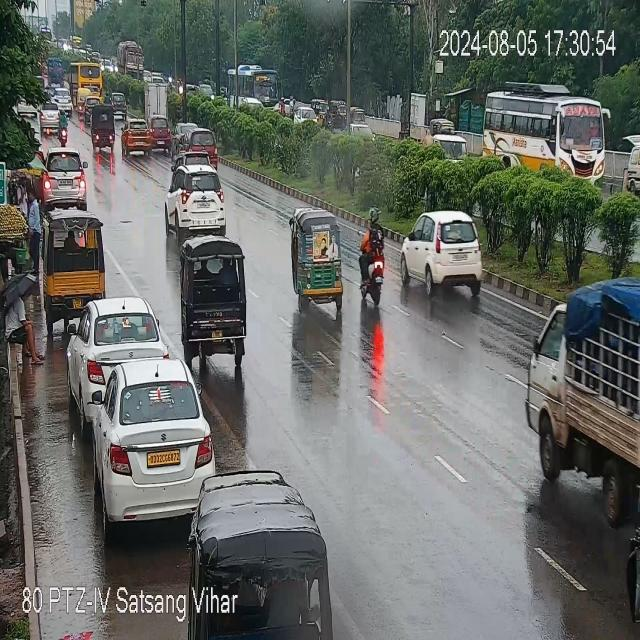2-wheelers: (359, 209, 386, 312), (59, 107, 68, 151), (350, 126, 372, 140), (296, 107, 316, 122), (292, 101, 296, 119)
auto: (181, 232, 249, 368), (43, 213, 106, 340), (399, 206, 483, 296), (291, 203, 343, 317), (89, 103, 118, 156), (312, 98, 329, 123), (332, 100, 346, 127), (432, 122, 456, 136), (351, 109, 364, 125)
bus: (485, 85, 605, 182), (229, 63, 282, 112), (68, 59, 105, 102)
car: (95, 356, 220, 536), (61, 294, 168, 427), (164, 164, 224, 242), (42, 147, 87, 211), (188, 125, 220, 166), (123, 115, 149, 159), (170, 118, 198, 154), (150, 113, 172, 153), (39, 102, 62, 133), (49, 85, 72, 116), (109, 93, 127, 118), (84, 96, 100, 122)
truck: (521, 287, 640, 492), (115, 42, 148, 74), (145, 82, 169, 120)
